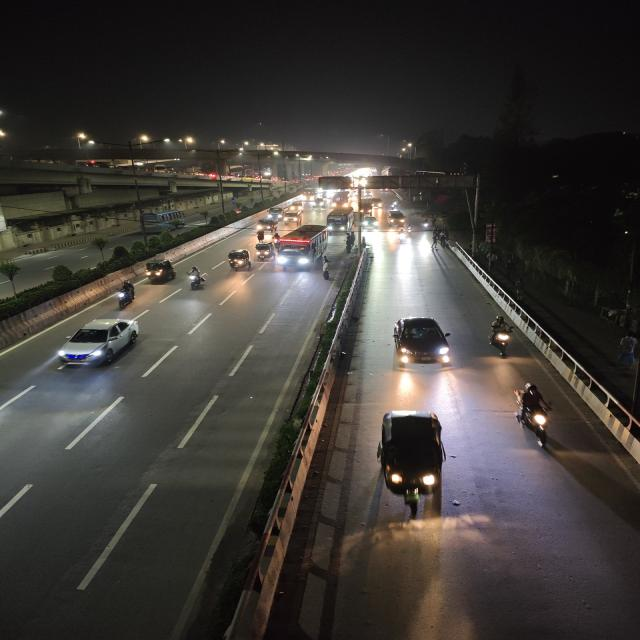bicycle: (320, 254, 333, 284)
bus: (272, 224, 332, 272), (326, 209, 354, 233), (146, 212, 185, 228), (331, 193, 351, 209)
car: (50, 315, 146, 375), (389, 314, 455, 372), (386, 209, 407, 227), (283, 212, 303, 225), (362, 216, 378, 229)
cng: (374, 407, 451, 519), (141, 256, 178, 286), (223, 247, 254, 274), (254, 241, 274, 261)
motorcycle: (511, 378, 556, 452), (484, 314, 518, 361), (111, 279, 138, 311), (185, 266, 208, 292), (320, 255, 333, 282), (396, 231, 406, 245)
pedestrian: (344, 231, 355, 252), (430, 233, 440, 250)
pickup_van: (258, 218, 280, 231)
